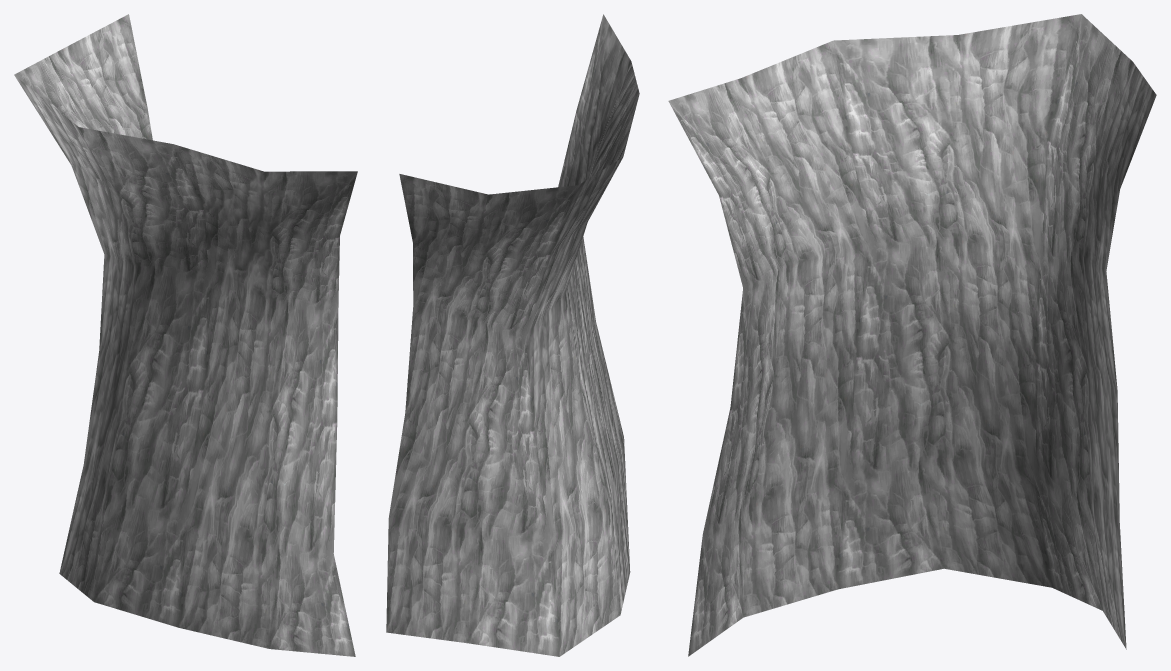
The model's file is SWORDLIGHT20_PS-AREA03_61.fbx.
3 views of the same model, side by side, from view 1: azimuth 30°, elevation 25°; view 2: azimuth 150°, elevation 25°; view 3: azimuth 270°, elevation 25° (orthographic). The views are drawn at different scales.
Visible parts, largest first — view 1: SWORDLIGHT20_PS-AREA03_61; view 2: SWORDLIGHT20_PS-AREA03_61; view 3: SWORDLIGHT20_PS-AREA03_61.
Part boxes in pixels (x1=…): SWORDLIGHT20_PS-AREA03_61: x1=14, y1=14, x2=357, y2=656; SWORDLIGHT20_PS-AREA03_61: x1=386, y1=14, x2=639, y2=656; SWORDLIGHT20_PS-AREA03_61: x1=668, y1=14, x2=1156, y2=656.
Size of the model in its own units: 78106 by 211180 by 168056.
1 material, 1 textured.
